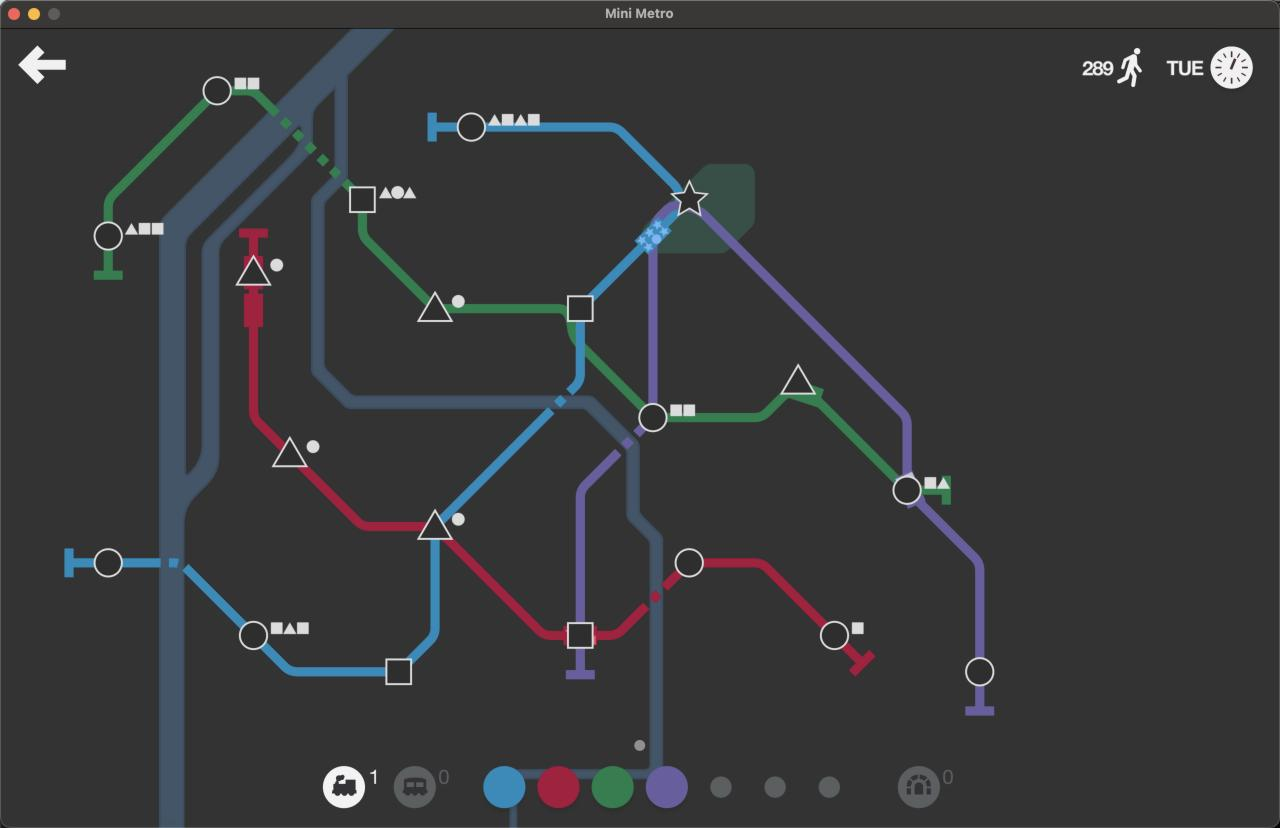CIRCLE: (891, 473, 923, 506), (238, 619, 269, 651), (819, 620, 850, 651), (637, 402, 668, 433), (674, 547, 705, 578), (93, 220, 124, 251), (965, 655, 995, 687), (202, 75, 232, 106), (457, 111, 486, 142), (94, 547, 123, 577)
SQUARE: (564, 621, 597, 649), (348, 185, 377, 214), (384, 657, 413, 685), (567, 294, 595, 323)
STAR: (666, 180, 707, 218)
TRIANGLE: (416, 508, 455, 542), (415, 290, 454, 324), (235, 254, 273, 288), (271, 435, 309, 468), (780, 363, 816, 396)
